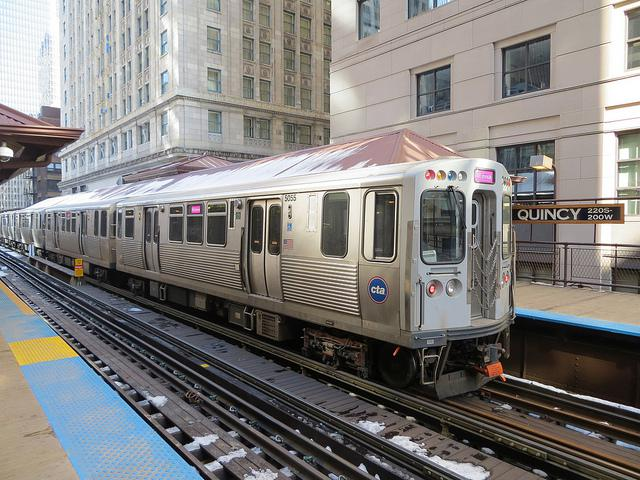Train: (0, 129, 519, 407)
